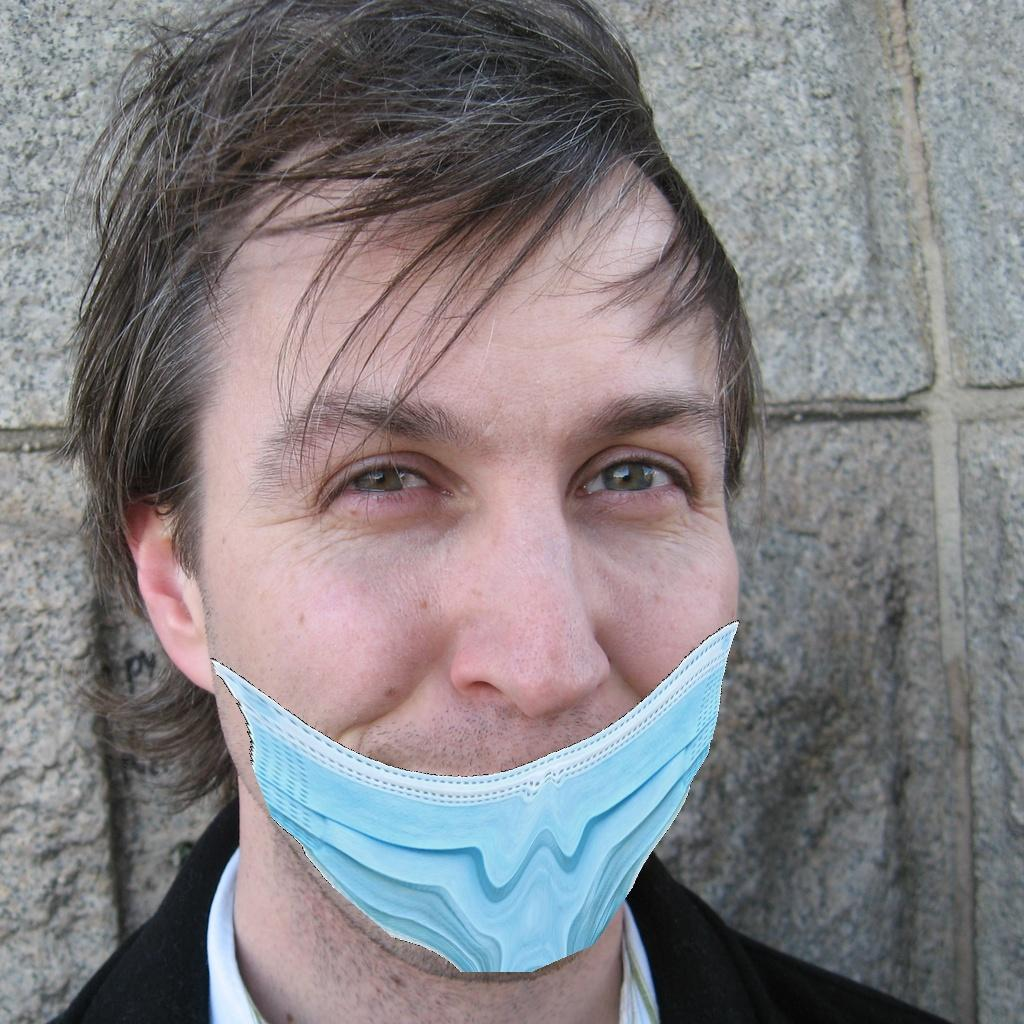Máscara Incorreta: (183, 290, 772, 947)
